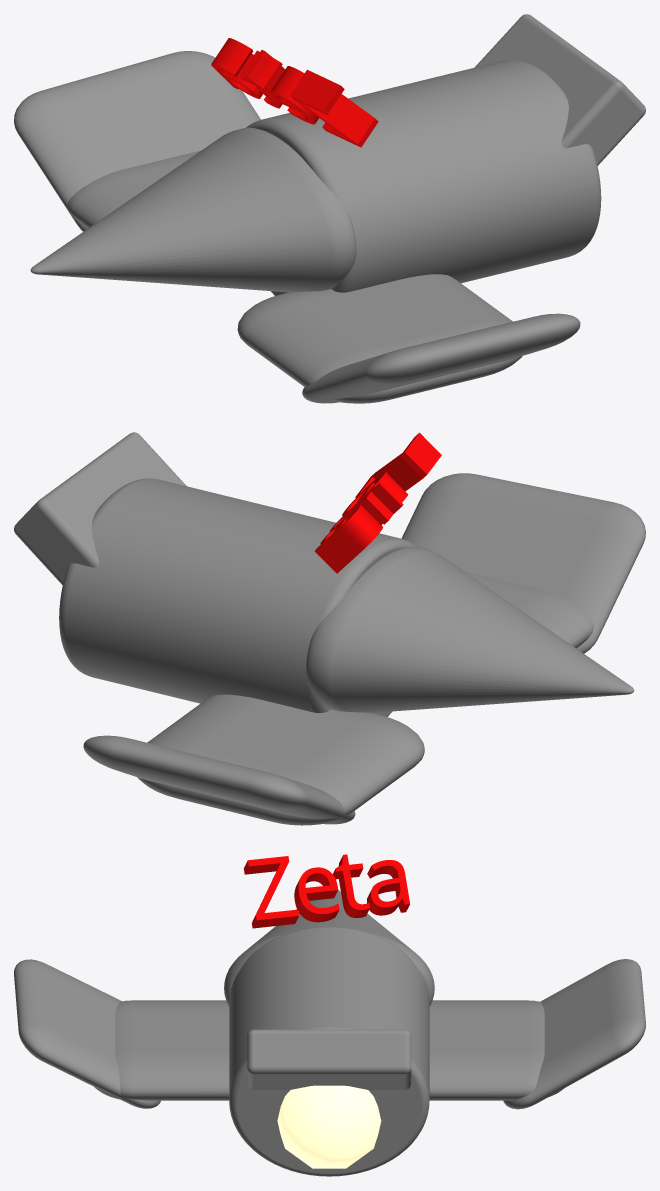
Rendered from Demo - Arm chair.gltf.
The picture shows the model from 3 angles, top to bottom: view 1: azimuth 30°, elevation 25°; view 2: azimuth 150°, elevation 25°; view 3: azimuth 270°, elevation 25°; orthographic projection. The views are drawn at different scales.
Visible parts, largest first — view 1: Cylinder, Cone, Box (×2), Box 2 (×2), Box 1, 3D Text - Z, 3D Text - a, 3D Text - t, 3D Text - e; view 2: Cylinder, Cone, Box (×2), Box 2 (×2), Box 1, 3D Text - a, 3D Text - Z, 3D Text - t, 3D Text - e; view 3: Cylinder, Box 2 (×2), Box (×2), Box 1, Polyhedron, Cone, 3D Text - e, 3D Text - a, 3D Text - Z, 3D Text - t.
Part boxes in pixels (bbox=[...]): Cylinder: bbox=[246, 60, 601, 295]; Cone: bbox=[30, 127, 356, 292]; Box (×2): bbox=[14, 51, 580, 403]; Box 2 (×2): bbox=[67, 150, 522, 403]; Box 1: bbox=[475, 14, 645, 165]; 3D Text - Z: bbox=[290, 69, 378, 147]; 3D Text - a: bbox=[211, 38, 262, 98]; 3D Text - t: bbox=[240, 50, 284, 108]; 3D Text - e: bbox=[270, 66, 318, 124]; Cylinder: bbox=[59, 478, 416, 716]; Cone: bbox=[305, 546, 634, 712]; Box (×2): bbox=[83, 473, 645, 824]; Box 2 (×2): bbox=[137, 571, 593, 825]; Box 1: bbox=[14, 432, 186, 585]; 3D Text - a: bbox=[314, 504, 382, 573]; 3D Text - Z: bbox=[355, 432, 441, 497]; 3D Text - t: bbox=[329, 482, 403, 531]; 3D Text - e: bbox=[342, 471, 408, 515]; Cylinder: bbox=[229, 926, 429, 1176]; Box 2 (×2): bbox=[94, 1000, 563, 1100]; Box (×2): bbox=[14, 959, 645, 1109]; Box 1: bbox=[247, 1029, 411, 1089]; Polyhedron: bbox=[277, 1085, 381, 1168]; Cone: bbox=[224, 890, 434, 1006]; 3D Text - e: bbox=[294, 867, 339, 922]; 3D Text - a: bbox=[367, 860, 409, 915]; 3D Text - Z: bbox=[243, 856, 299, 928]; 3D Text - t: bbox=[333, 854, 370, 917].
Size of the model in its own units: 0.3353 by 0.1452 by 0.3848.
